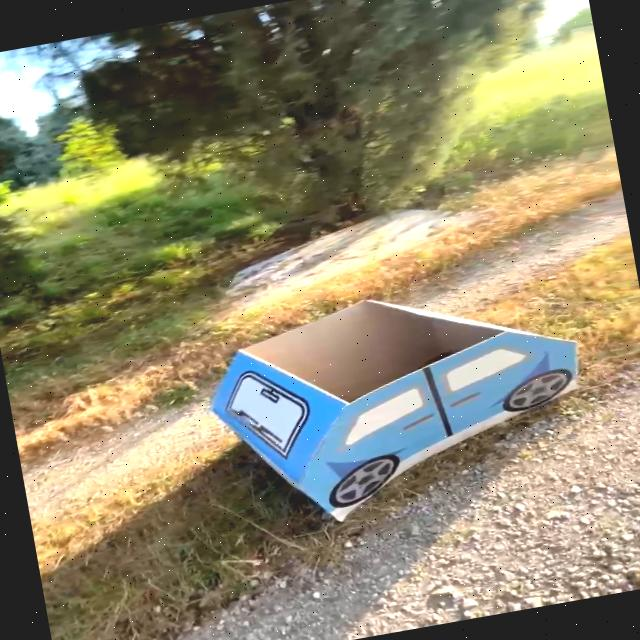blue_car: (115, 240, 629, 581)
